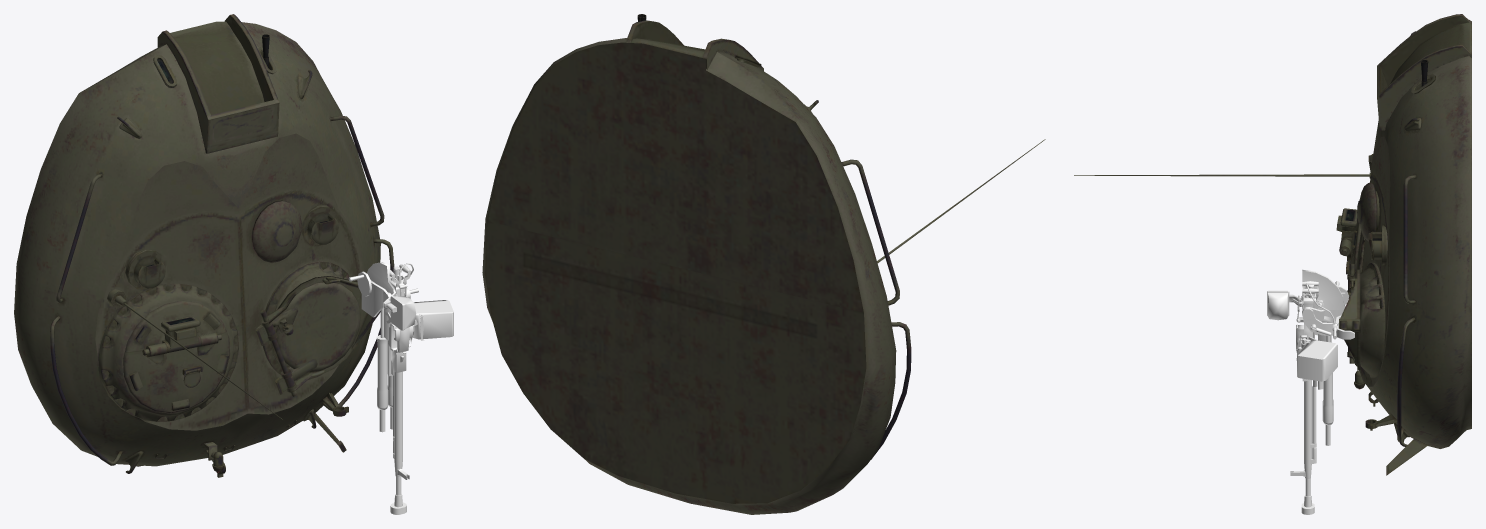
File: Turret_02.glb
3 views of the same model, side by side, from view 1: azimuth 30°, elevation 25°; view 2: azimuth 150°, elevation 25°; view 3: azimuth 270°, elevation 25° (orthographic). The views are drawn at different scales.
Parts seen in each view (by area): view 1: set_0_group_0, set_0_group_1; view 2: set_0_group_0; view 3: set_0_group_0, set_0_group_1.
Boxes of the visible parts, x1,y1,x2,y2 form: set_0_group_0: [14, 14, 394, 477]; set_0_group_1: [348, 262, 453, 514]; set_0_group_0: [482, 14, 1045, 514]; set_0_group_0: [1074, 14, 1471, 475]; set_0_group_1: [1267, 269, 1354, 514].
Size of the model in its own units: 2.53 by 3.05 by 2.57.
2 materials, 1 textured.
